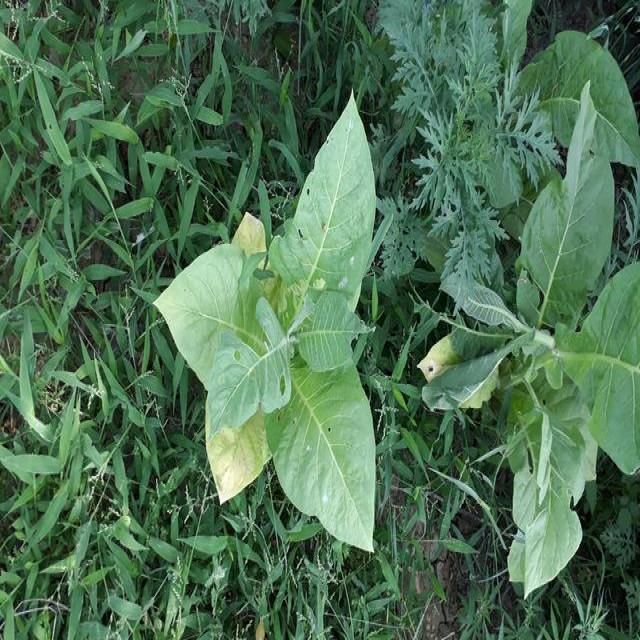crop: (170, 110, 398, 550), (507, 121, 640, 584)
